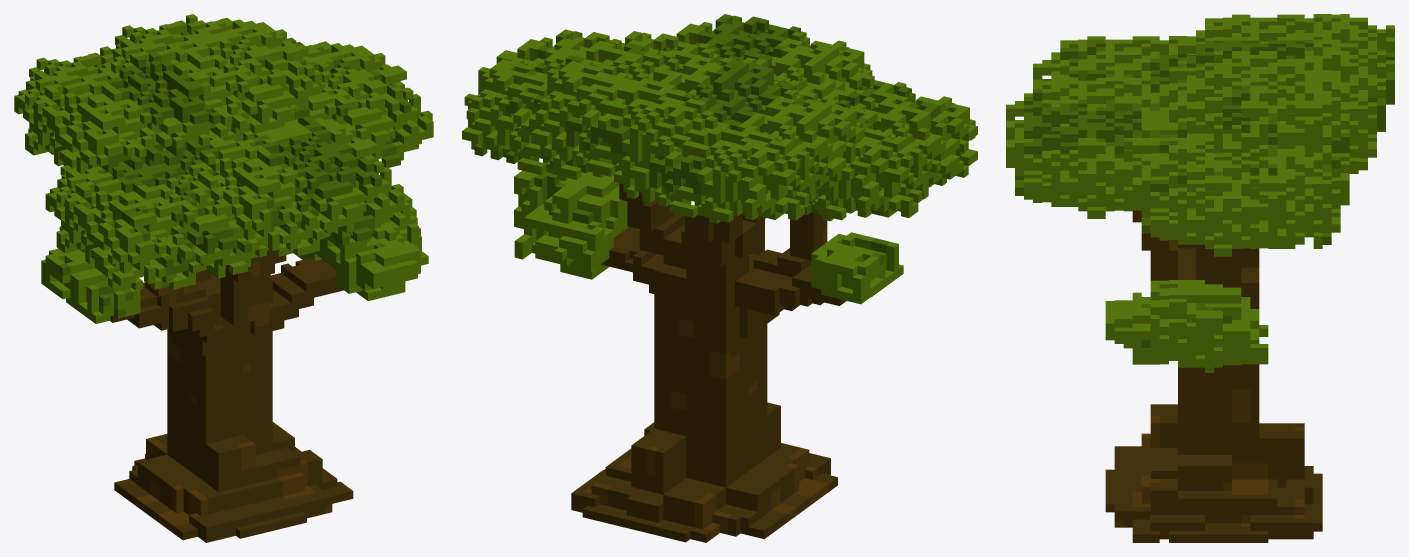
File: Tree2.obj
3 views of the same model, side by side, from view 1: azimuth 30°, elevation 25°; view 2: azimuth 150°, elevation 25°; view 3: azimuth 270°, elevation 25° (orthographic). The views are drawn at different scales.
Bounding box in the file's own units: 4.9 × 5.3 × 4.3.
Materials: 1 (1 with a texture image).
